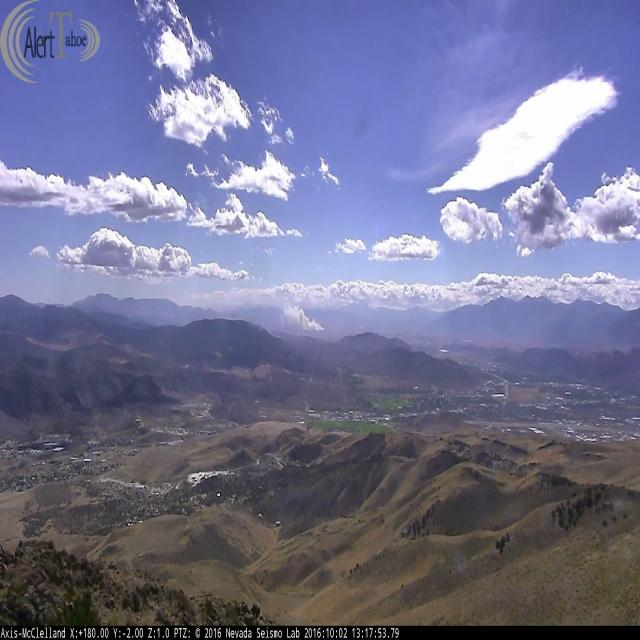smoke: (279, 303, 324, 331)
